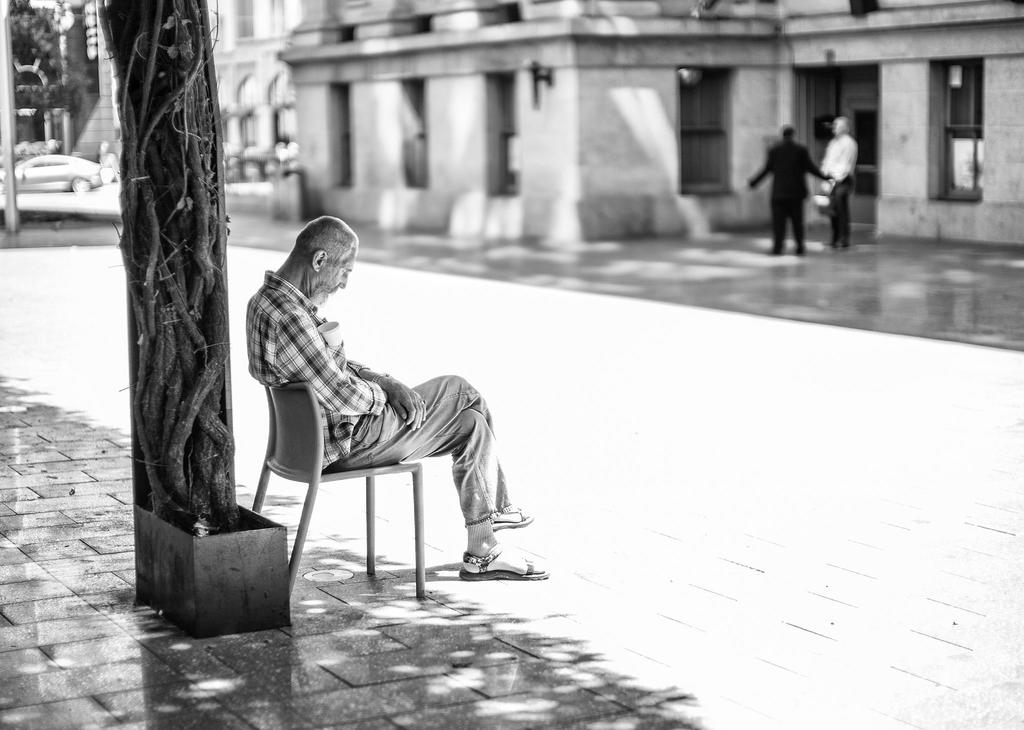Car: (1, 151, 103, 196)
